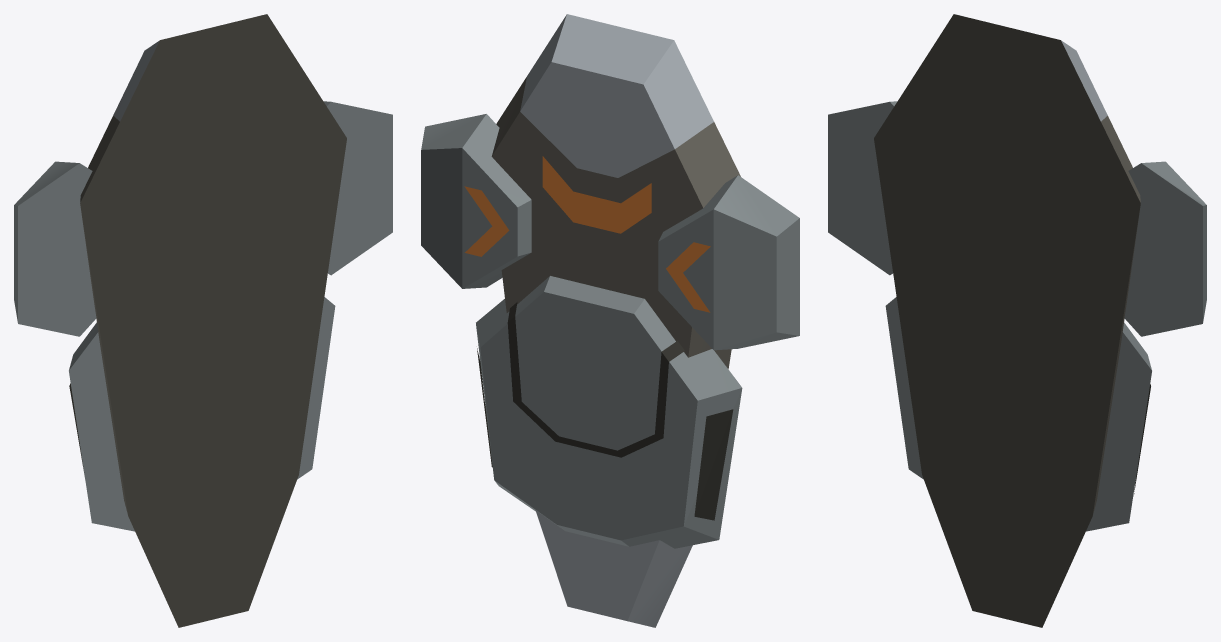
File: Army2_dun2.FBX
3 views of the same model, side by side, from view 1: azimuth 30°, elevation 25°; view 2: azimuth 150°, elevation 25°; view 3: azimuth 330°, elevation 25° (orthographic).
Parts seen in each view (by area): view 1: Army2_dun2; view 2: Army2_dun2; view 3: Army2_dun2.
Part boxes in pixels (x1,y1,x2,y2): Army2_dun2: (14,14,392,627); Army2_dun2: (421,14,799,627); Army2_dun2: (828,14,1206,627).
Bounding box in the file's own units: 31.15 × 4.75 × 47.05.
1 material, 1 textured.
